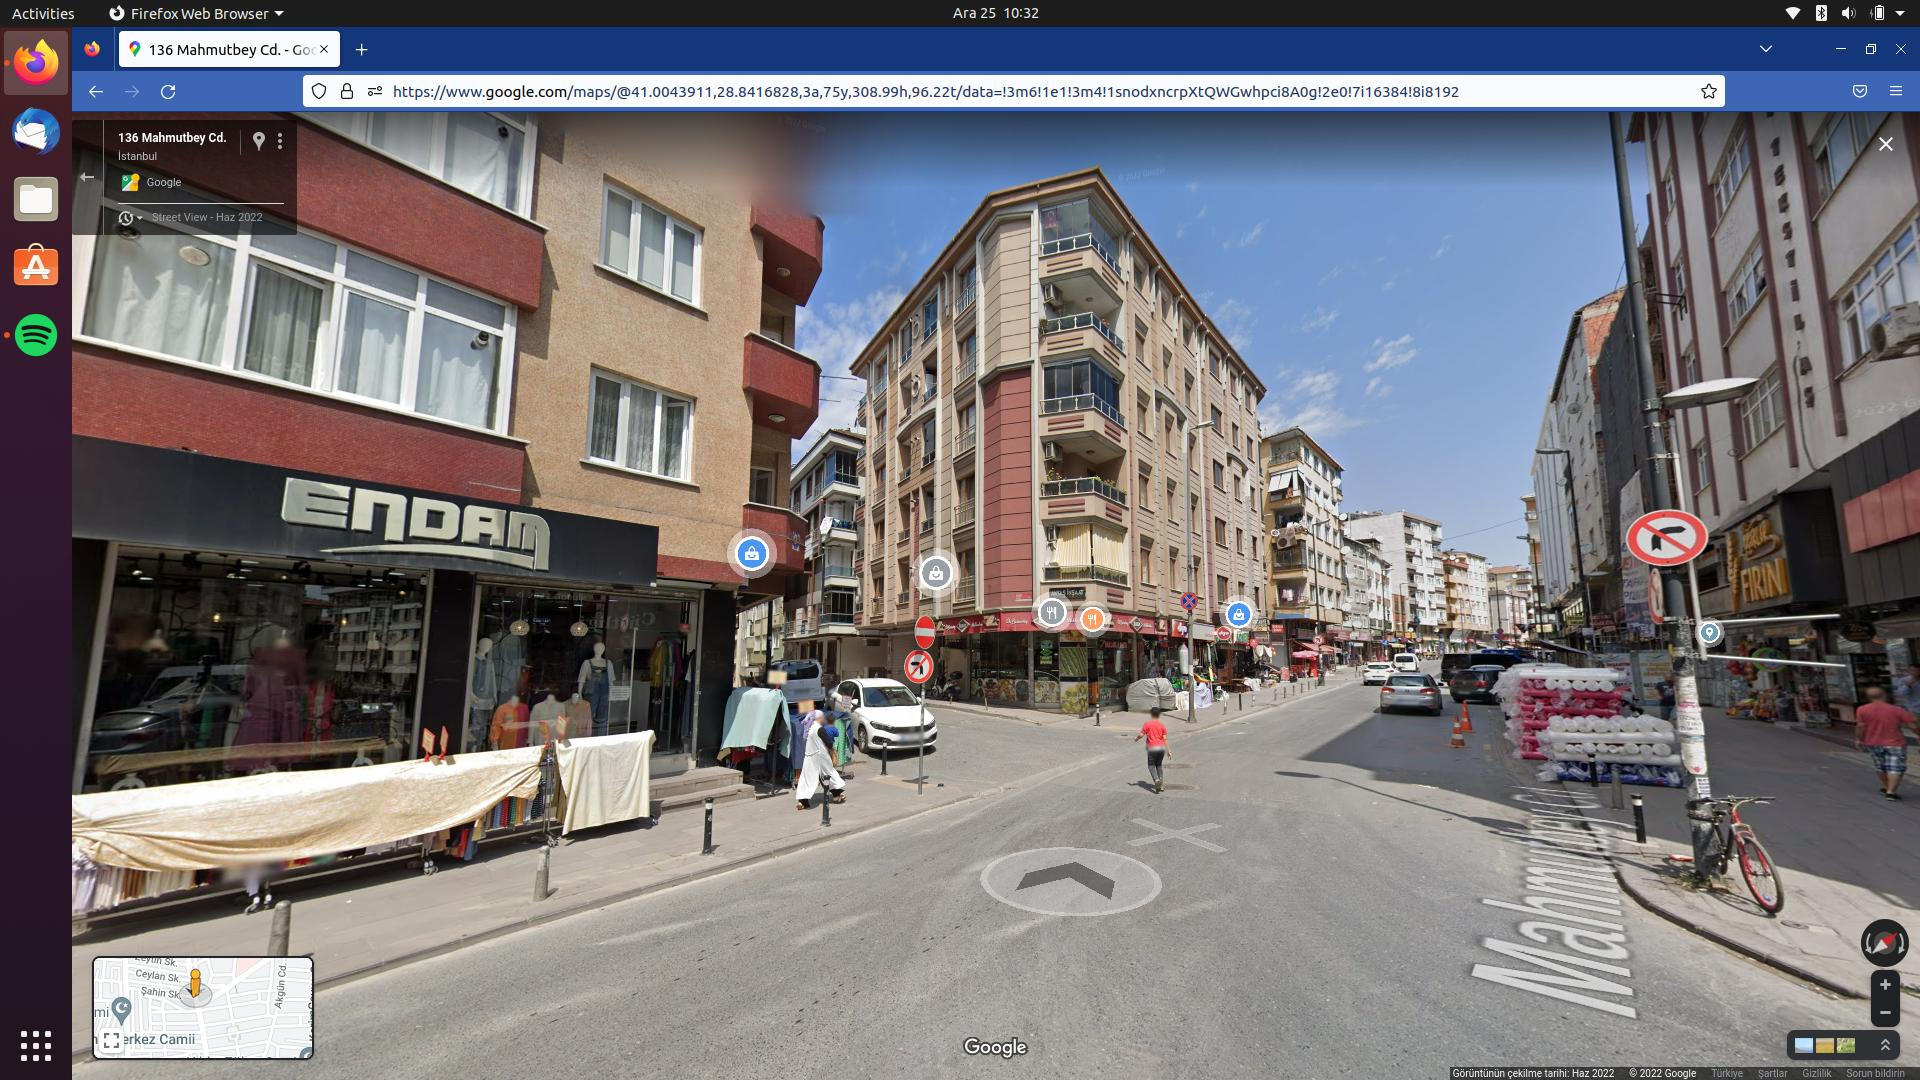leftturnsareforbidden: (905, 649, 935, 683)
rightturnsareforbidden: (1629, 508, 1708, 563)
